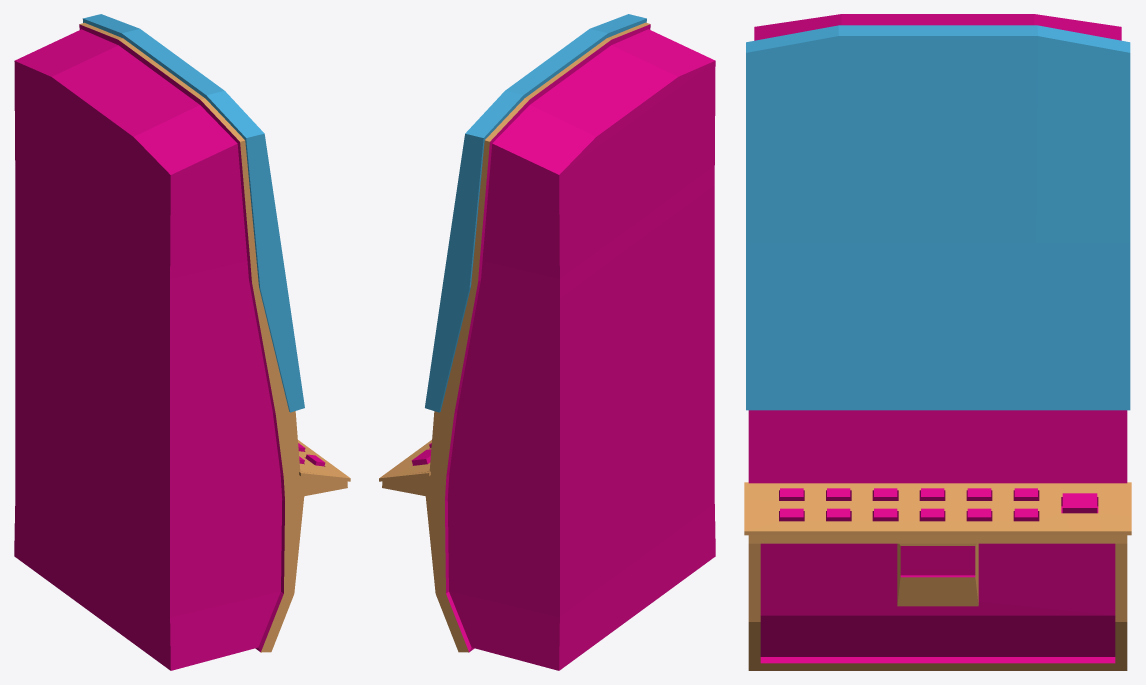
Rendered from C_Machine_002.fbx.
3 renders of one model, left to right at view 1: azimuth 30°, elevation 25°; view 2: azimuth 150°, elevation 25°; view 3: azimuth 270°, elevation 25°, orthographic. The views are drawn at different scales.
Visible parts, largest first — view 1: C_Machine_002; view 2: C_Machine_002; view 3: C_Machine_002.
Boxes of the visible parts, x1,y1,x2,y2 form: C_Machine_002: (14, 14, 350, 670); C_Machine_002: (379, 14, 715, 670); C_Machine_002: (744, 14, 1131, 670).
Bounding box in the file's own units: 56.75 × 165 × 92.
